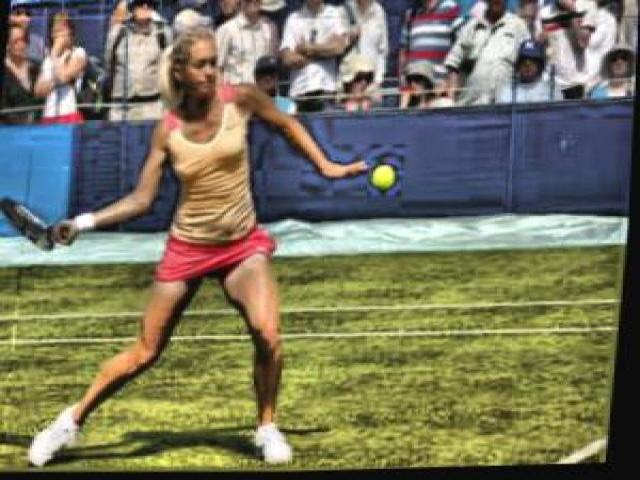tennis-ball: (373, 167, 395, 191)
